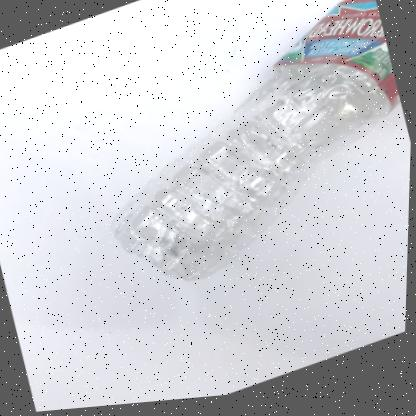Plastic: (113, 0, 400, 284)
